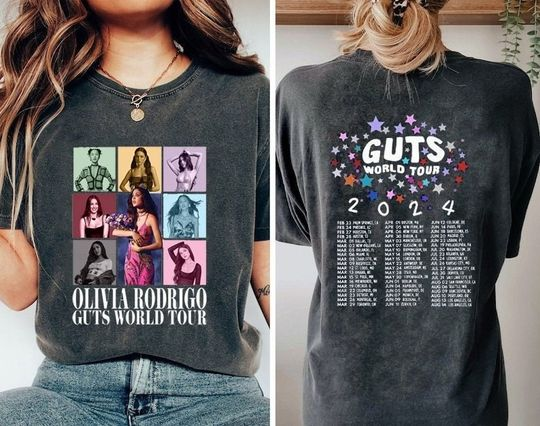design: (329, 109, 477, 308), (70, 143, 210, 328)
